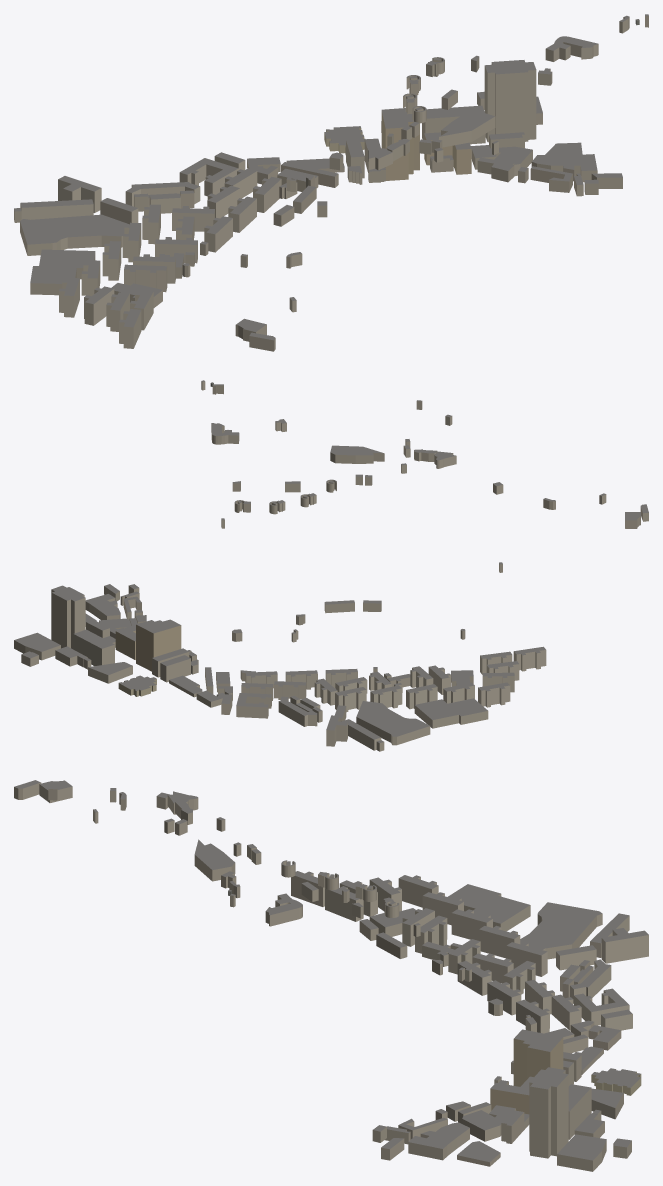
The model's file is buildings.glb.
The picture shows the model from 3 angles, top to bottom: view 1: azimuth 30°, elevation 25°; view 2: azimuth 150°, elevation 25°; view 3: azimuth 270°, elevation 25°; orthographic projection. The views are drawn at different scales.
Visible parts, largest first — view 1: T_E0_N3_buildings; view 2: T_E0_N3_buildings; view 3: T_E0_N3_buildings.
Part boxes in pixels (box(x1,y1,x2,y2)): T_E0_N3_buildings: box(14, 14, 648, 351); T_E0_N3_buildings: box(14, 380, 648, 751); T_E0_N3_buildings: box(14, 780, 648, 1171).
Bounding box in the file's own units: 525 × 215 × 508.
